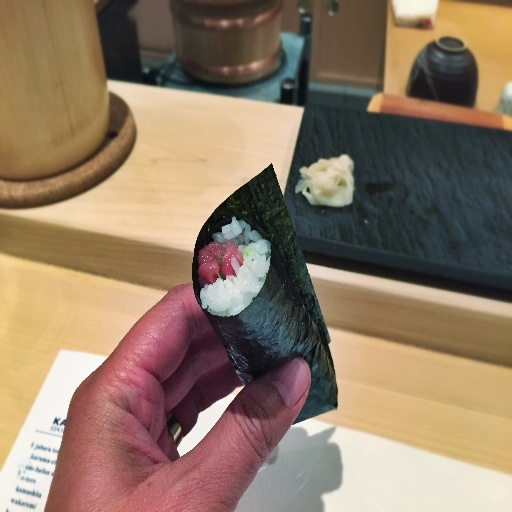hand: (45, 290, 314, 506)
